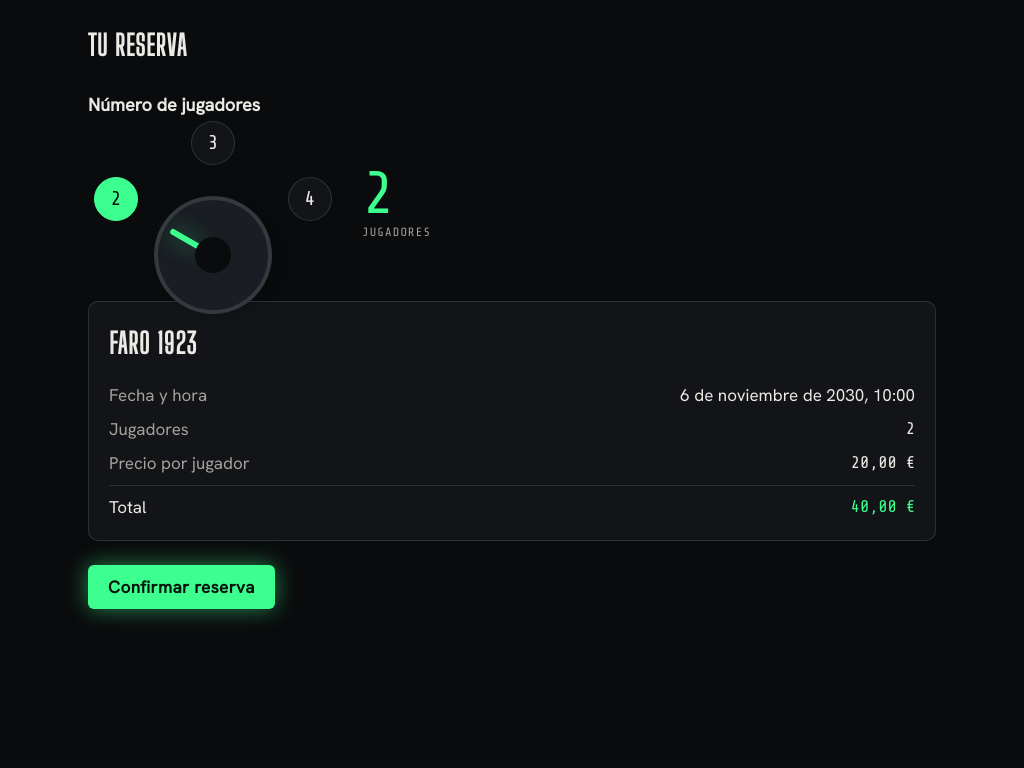
Test case: CheckoutPage › shows its own message for INVALID_PLAYERS
This screenshot has width=1024, height=768.
Click the button "Confirmar reserva" at (181, 587), box x1=88 y1=565 x2=275 y2=609
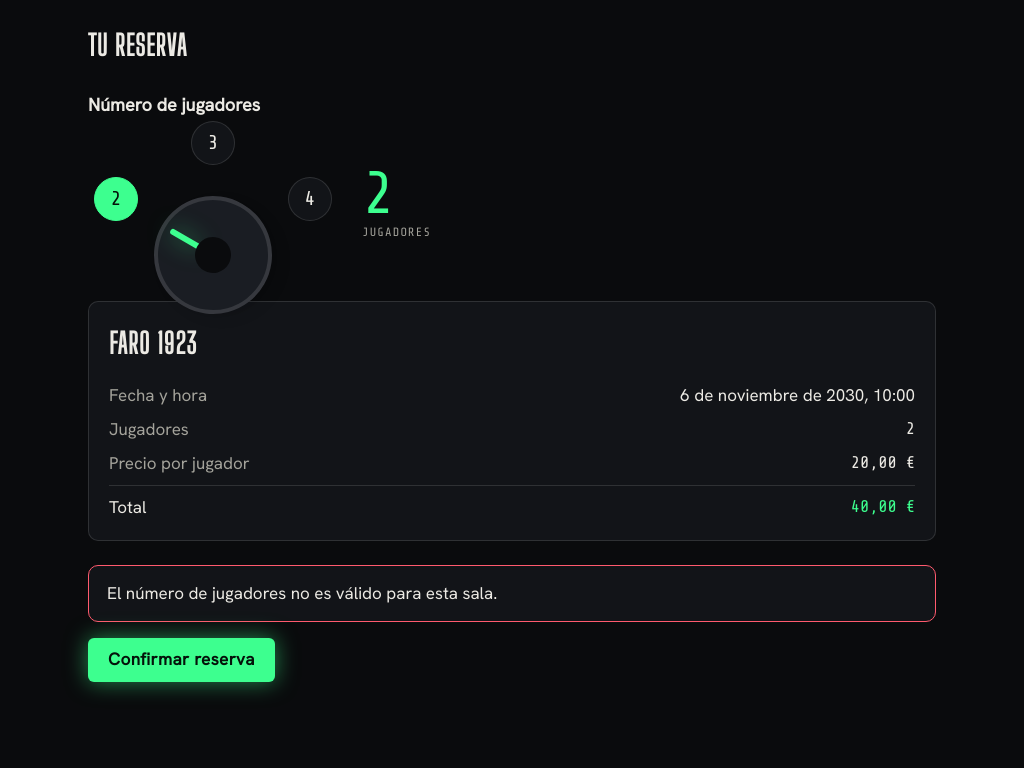
Expected: the message reads "El número de jugadores no es válido para esta sala.", x1=107 y1=582 x2=497 y2=604
